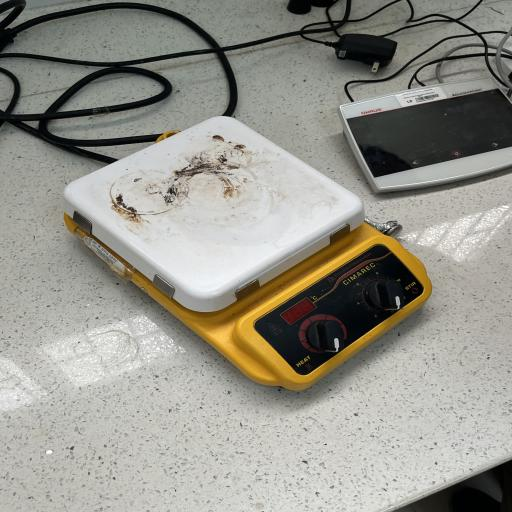Plancha_Agitacion_Cimarec: (53, 112, 443, 397)
